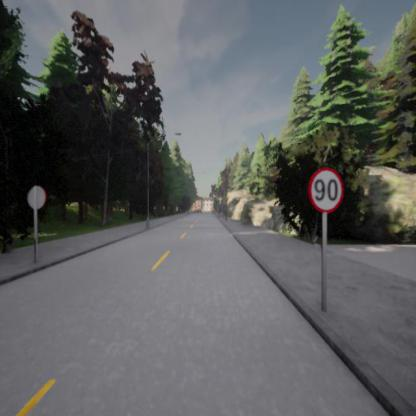traffic_sign_90: (309, 167, 342, 213)
